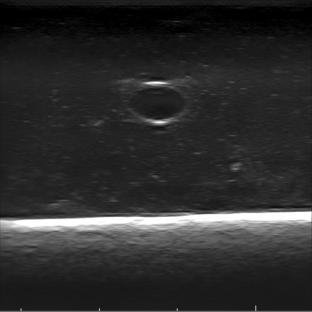vessel: (127, 80, 189, 125)
